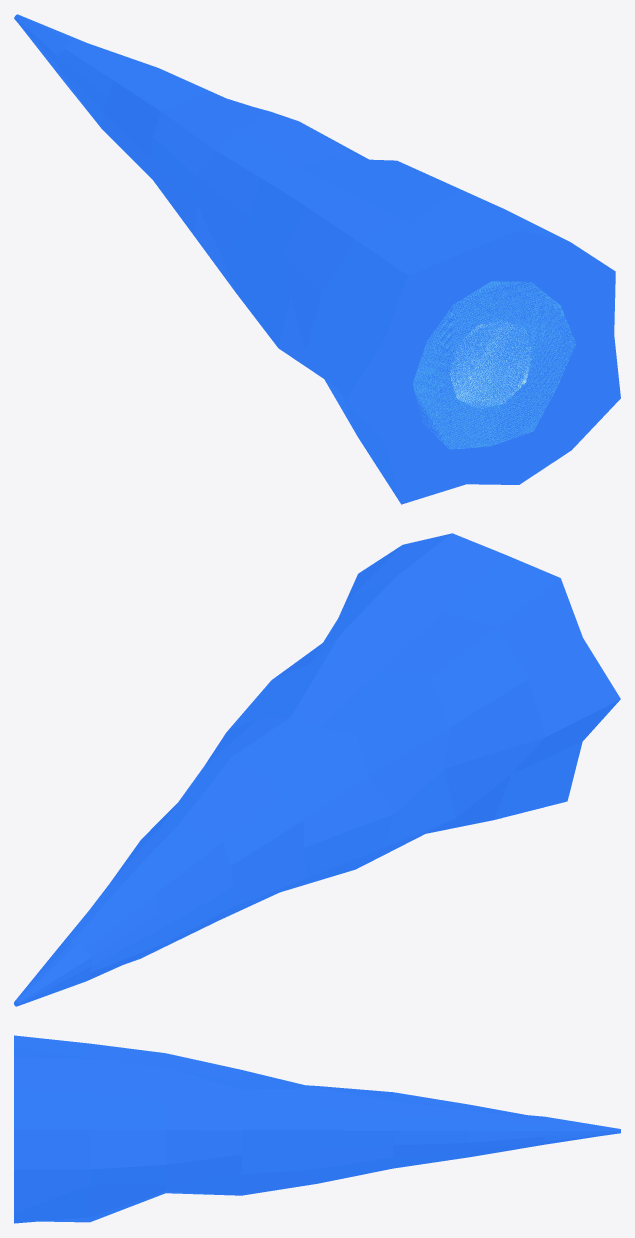
File: afterburner_boost.glb
3 renders of one model, top to bottom at view 1: azimuth 30°, elevation 25°; view 2: azimuth 150°, elevation 25°; view 3: azimuth 270°, elevation 25°, orthographic. The views are drawn at different scales.
Parts seen in each view (by area): view 1: afterburner_boost; view 2: afterburner_boost; view 3: afterburner_boost.
Part boxes in pixels (x1=…): afterburner_boost: x1=14, y1=14, x2=620, y2=504; afterburner_boost: x1=14, y1=533, x2=620, y2=1006; afterburner_boost: x1=14, y1=1035, x2=620, y2=1223.
Size of the model in its own units: 1.17 by 1.05 by 3.5.
